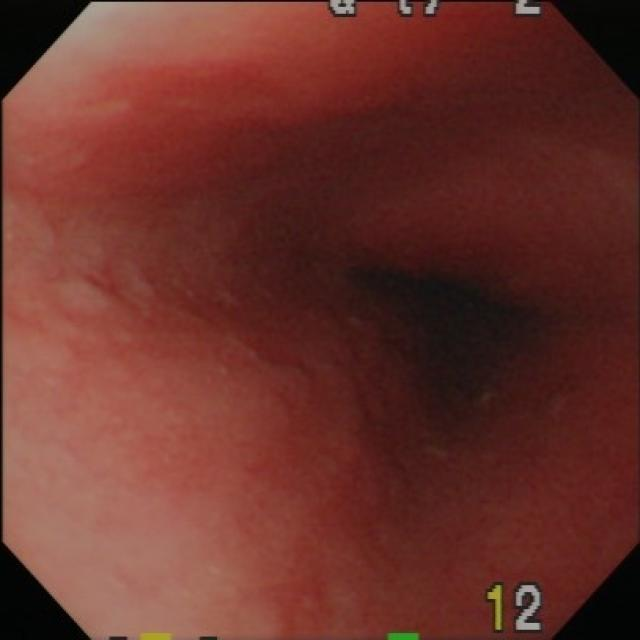E: (366, 253, 545, 427)
S: (485, 581, 547, 636), (325, 3, 545, 18)
